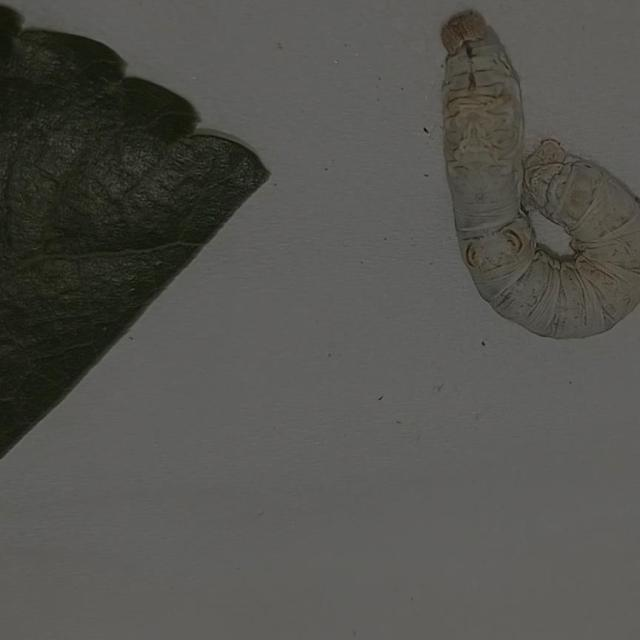Healthy: (400, 0, 640, 366)
